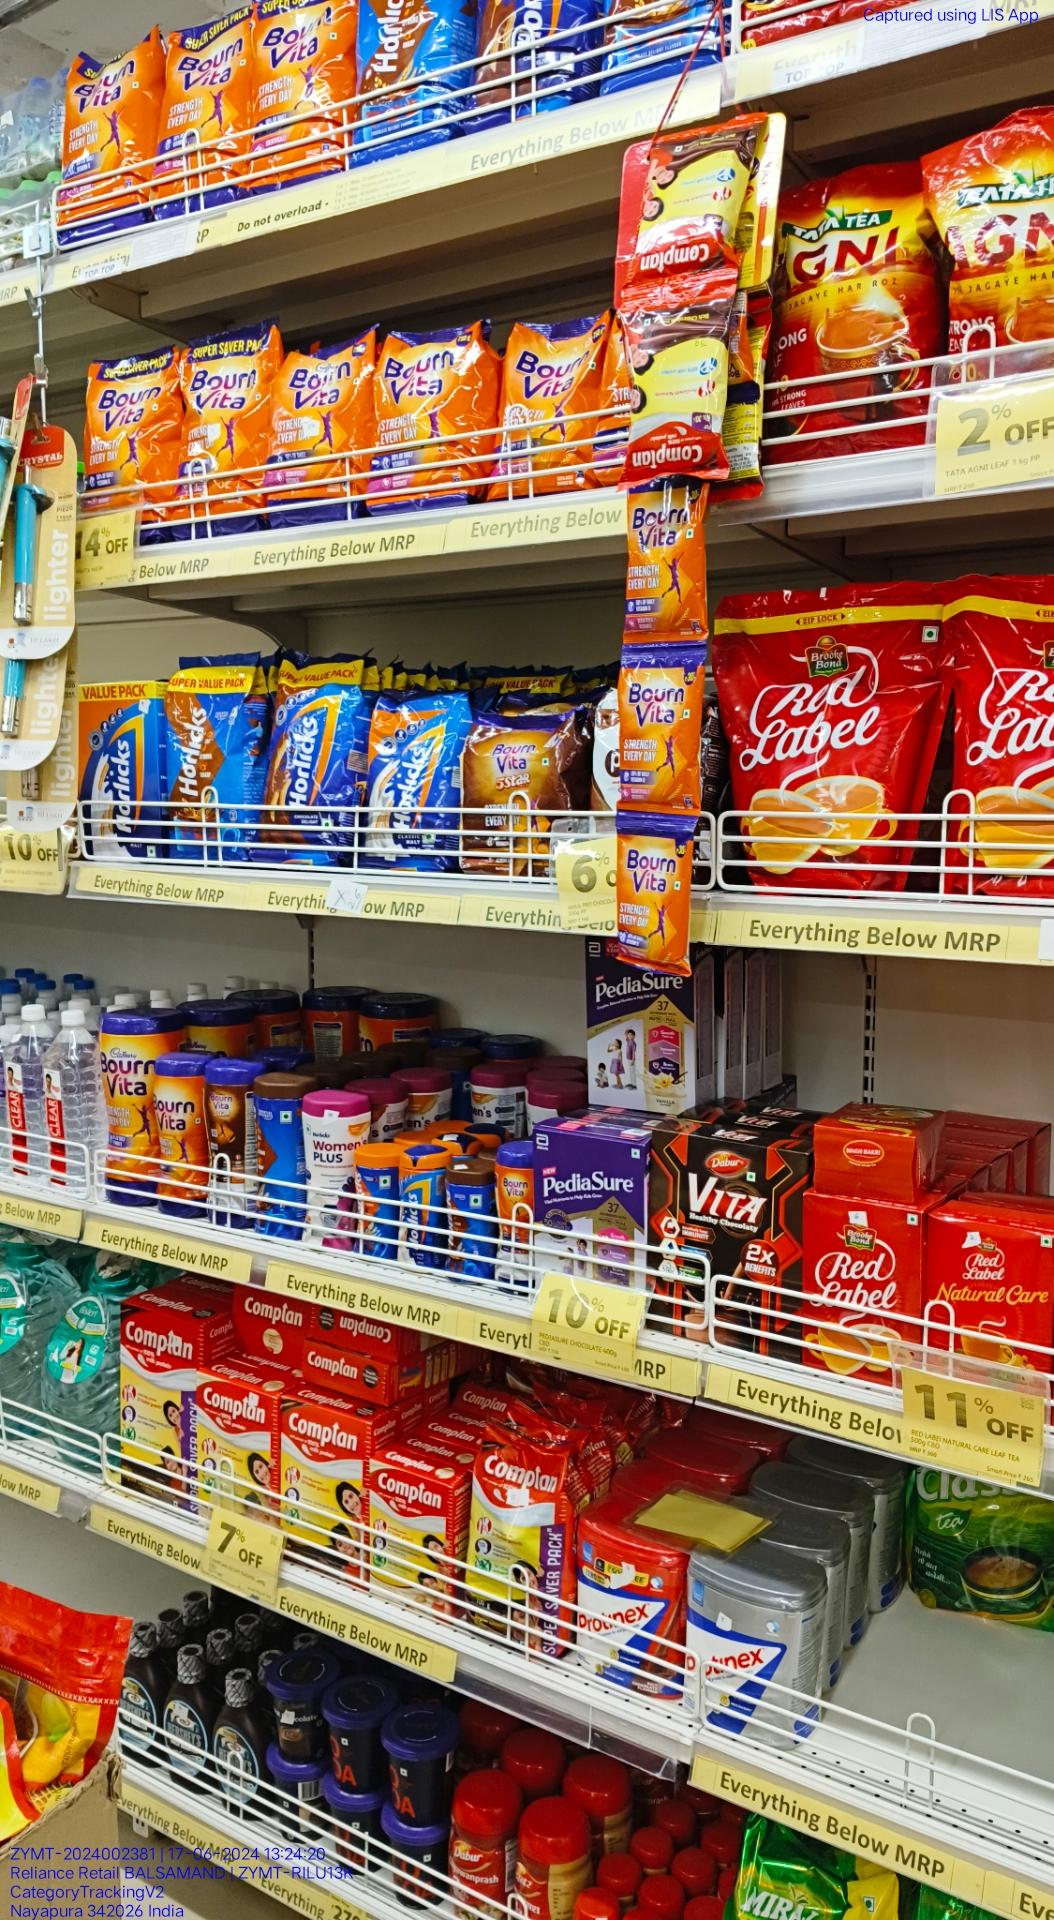BOURN_VITA_75_G_POUCH: (620, 649, 706, 812), (626, 488, 705, 638), (617, 819, 694, 969)
COMPLAN_KESAR_BADAM_200_GMS_PACK: (367, 1459, 453, 1609)
PROTINEX_CHOCOLATE_400_G_JAR: (576, 1528, 681, 1689)
PROTINEX_ORIGINAL_400_G_JAR: (685, 1559, 798, 1746)
